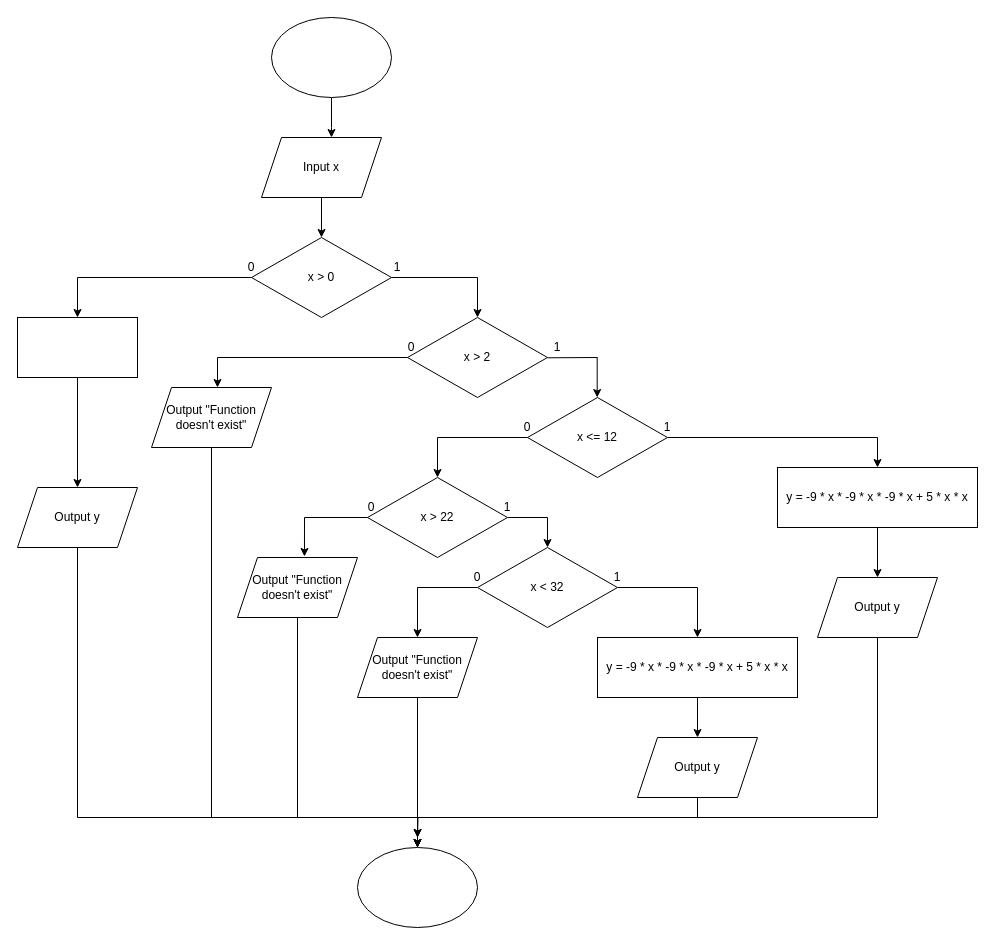
The diagram is 995 pixels wide and 945 high, and some of its shapes have lost their labels. Here are the shapes that lost their labels. From the top down, the centre of each, then its label:
pixel 331 57: Begin
pixel 77 347: y = -x * x -12
pixel 417 887: End
